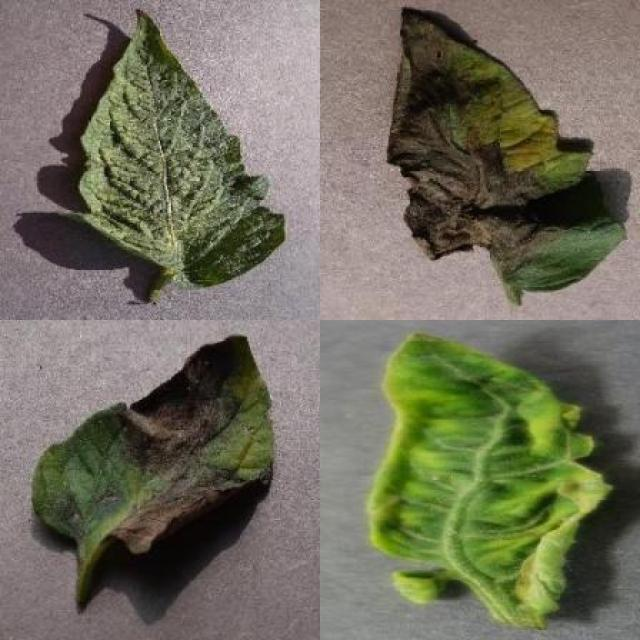Late Blight: (385, 6, 632, 296), (32, 332, 275, 558)
Spider Mites: (78, 7, 286, 290)
Yellow Leaf Curl Virus: (372, 330, 617, 630)
